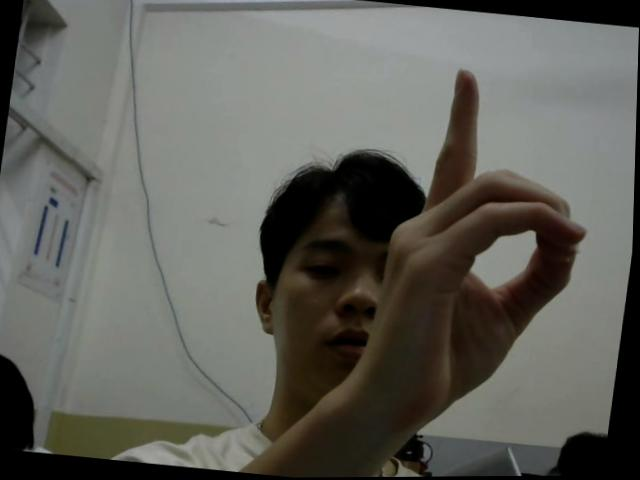D: (362, 61, 603, 442)
